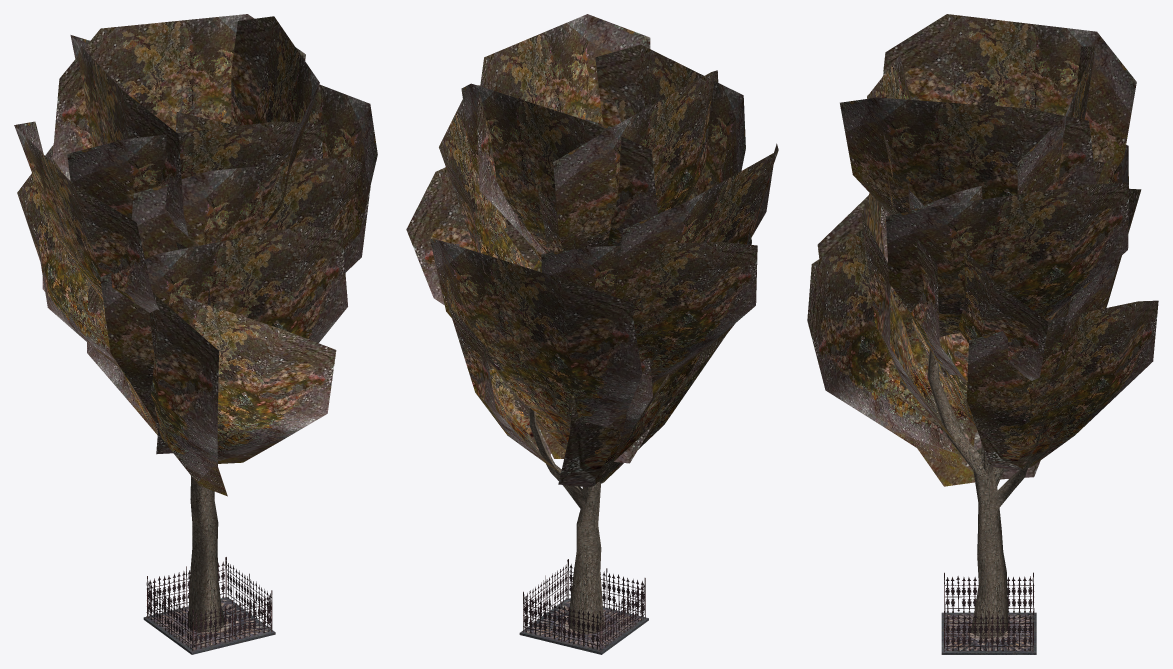
The model's file is tree_decid_large_basefence_leaf.fbx.
3 views of the same model, side by side, from view 1: azimuth 30°, elevation 25°; view 2: azimuth 150°, elevation 25°; view 3: azimuth 270°, elevation 25° (orthographic). The views are drawn at different scales.
Visible parts, largest first — view 1: mesh_1, mesh_2, mesh_0, mesh_3; view 2: mesh_1, mesh_0, mesh_2, mesh_3; view 3: mesh_1, mesh_0, mesh_2, mesh_3.
Part boxes in pixels (bbox=[...]): mesh_1: bbox=[14, 14, 377, 496]; mesh_2: bbox=[146, 557, 272, 651]; mesh_0: bbox=[188, 476, 224, 632]; mesh_3: bbox=[143, 597, 275, 654]; mesh_1: bbox=[406, 14, 778, 487]; mesh_0: bbox=[529, 408, 604, 634]; mesh_2: bbox=[523, 559, 645, 650]; mesh_3: bbox=[519, 598, 648, 654]; mesh_1: bbox=[807, 14, 1158, 486]; mesh_0: bbox=[927, 350, 1028, 639]; mesh_2: bbox=[944, 572, 1034, 651]; mesh_3: bbox=[941, 612, 1036, 654].
Size of the model in its own units: 780 by 1320 by 739.
Materials: 4 (4 with a texture image).
